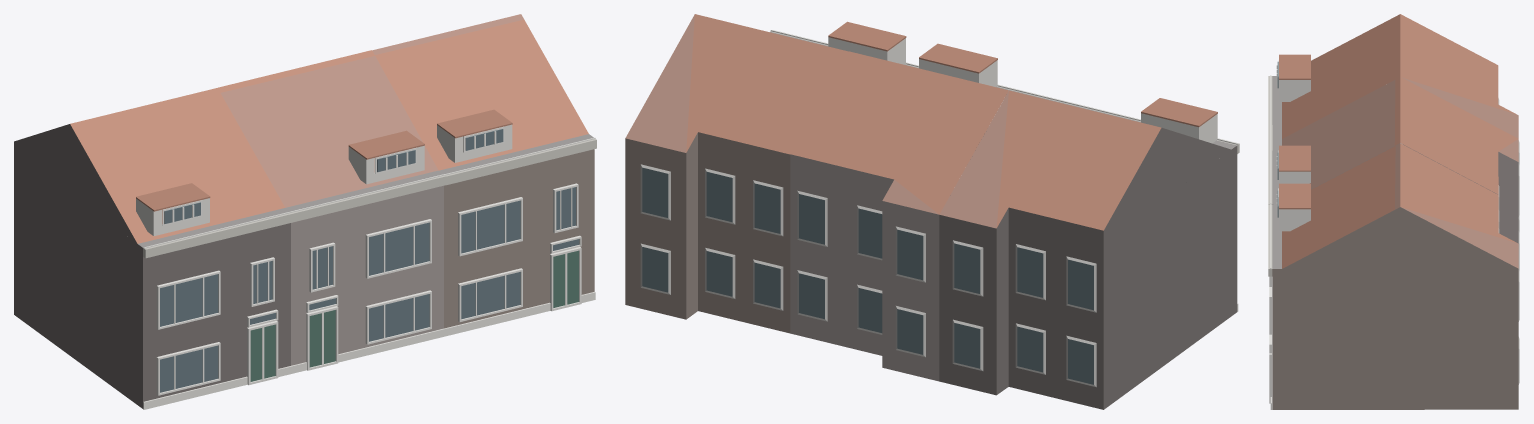
The model's file is chunk-face-kalkoen-28-34-r1.glb.
3 renders of one model, left to right at view 1: azimuth 30°, elevation 25°; view 2: azimuth 150°, elevation 25°; view 3: azimuth 270°, elevation 25°, orthographic. The views are drawn at different scales.
Visible parts, largest first — view 1: face-kalkoen-28-34-r1; view 2: face-kalkoen-28-34-r1; view 3: face-kalkoen-28-34-r1.
Boxes of the visible parts, bbox=[...] form: face-kalkoen-28-34-r1: bbox=[14, 14, 596, 409]; face-kalkoen-28-34-r1: bbox=[625, 14, 1239, 409]; face-kalkoen-28-34-r1: bbox=[1268, 14, 1519, 409].
Size of the model in its own units: 18.93 by 9.29 by 10.43.
